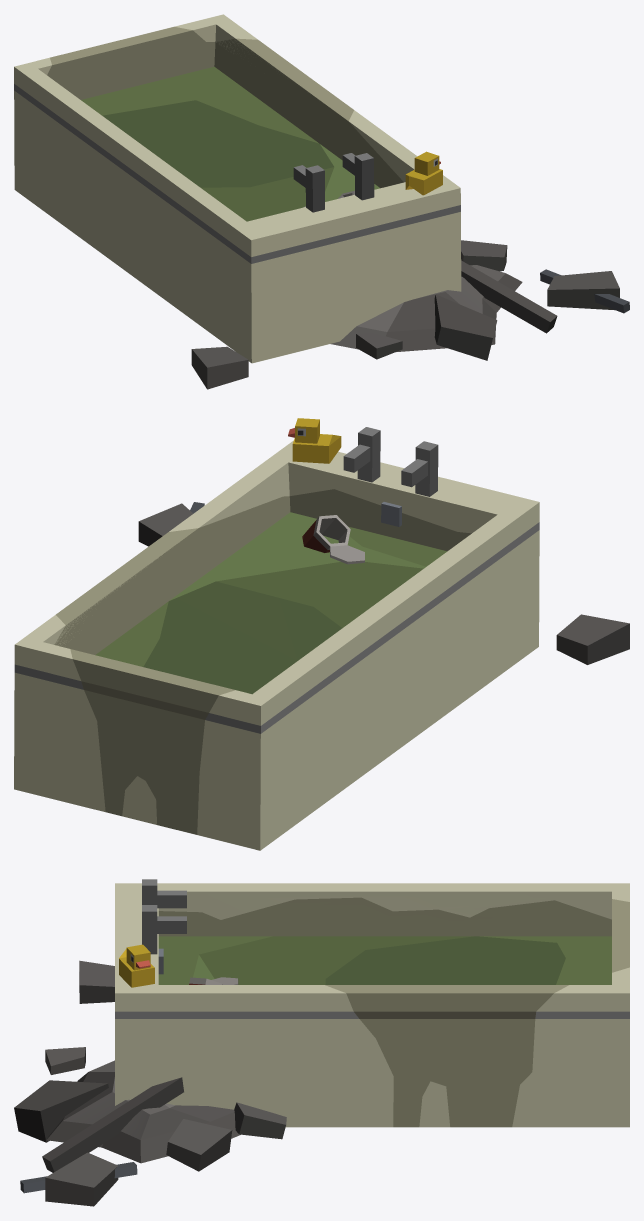
File: AI_Prop_BathTub.fbx
3 views of the same model, one above another, from view 1: azimuth 30°, elevation 25°; view 2: azimuth 150°, elevation 25°; view 3: azimuth 270°, elevation 25° (orthographic). The views are drawn at different scales.
Visible parts, largest first — view 1: AI_Prop_BathTub; view 2: AI_Prop_BathTub; view 3: AI_Prop_BathTub.
Part boxes in pixels (left/top/right/bottom): AI_Prop_BathTub: left=14, top=14, right=629, bottom=389; AI_Prop_BathTub: left=14, top=418, right=629, bottom=850; AI_Prop_BathTub: left=14, top=879, right=629, bottom=1206.
Size of the model in its own units: 3.34 by 1.38 by 3.99.
